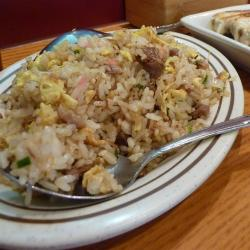rice: (7, 30, 221, 200)
